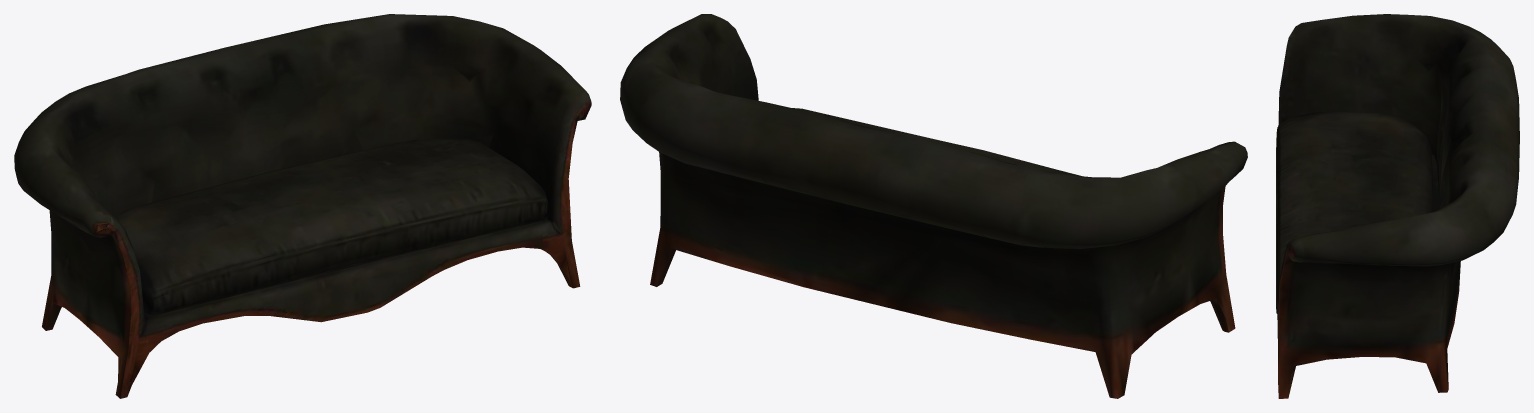
Rendered from ph-sofa_02.glb.
3 views of the same model, side by side, from view 1: azimuth 30°, elevation 25°; view 2: azimuth 150°, elevation 25°; view 3: azimuth 270°, elevation 25° (orthographic). The views are drawn at different scales.
Visible parts, largest first — view 1: sofa_02_Base; view 2: sofa_02_Base; view 3: sofa_02_Base.
Part boxes in pixels (x1,y1,x2,y2): sofa_02_Base: (14,14,591,398); sofa_02_Base: (620,14,1247,398); sofa_02_Base: (1276,14,1519,398).
Size of the model in its own units: 1.81 by 0.7095 by 0.8159.
1 material, 1 textured.
